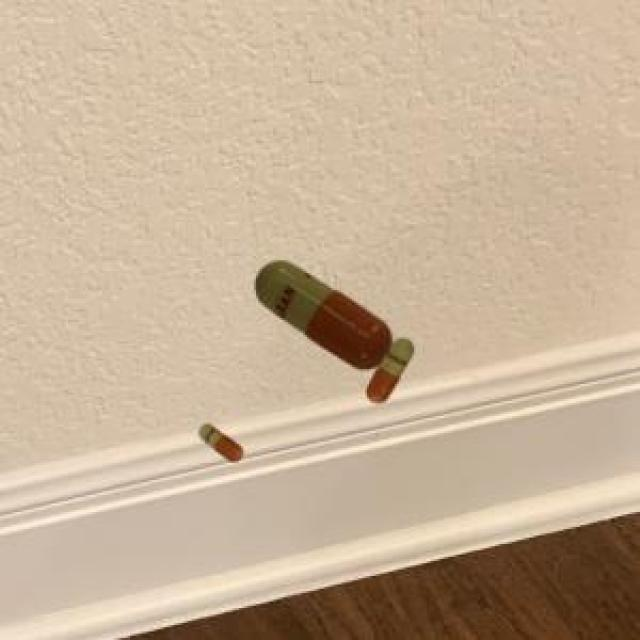Alaxan: (248, 260, 419, 410), (189, 412, 254, 469)
